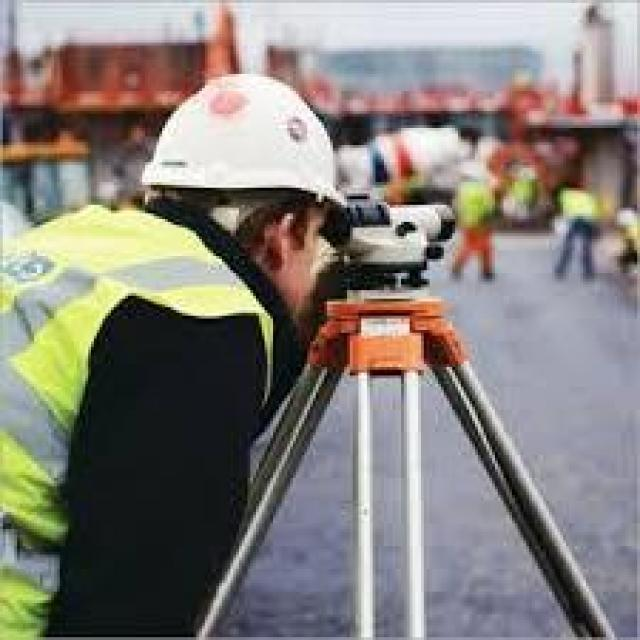Reflective-Jacket: (0, 202, 299, 620)
Safety-Helmet: (136, 68, 358, 219)
